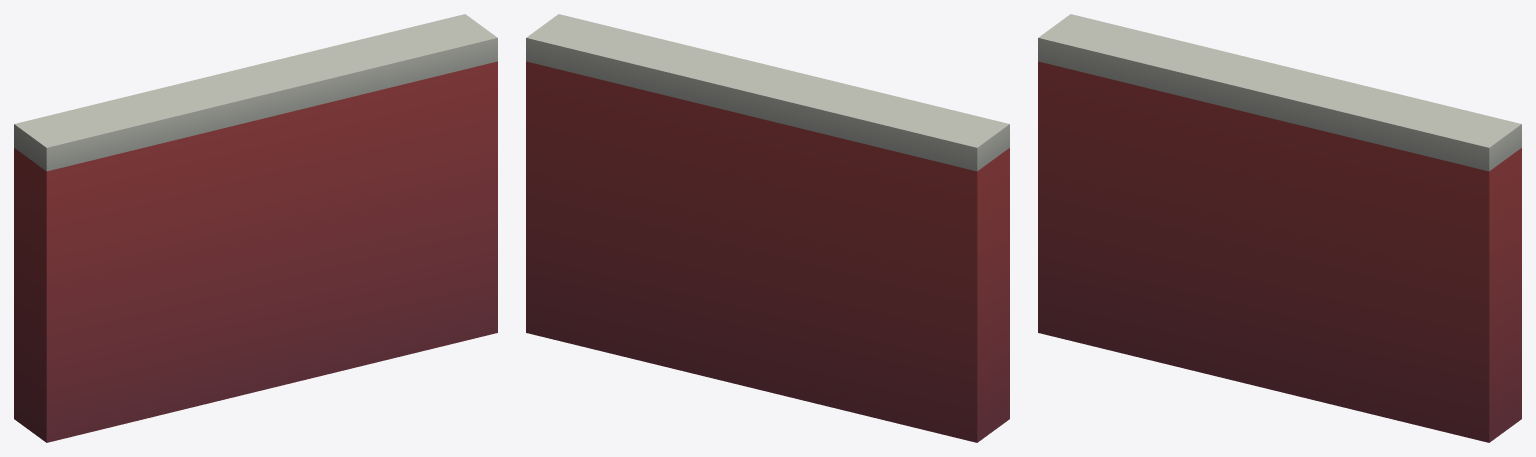
File: Wall_Brick_01.fbx
3 views of the same model, side by side, from view 1: azimuth 30°, elevation 25°; view 2: azimuth 150°, elevation 25°; view 3: azimuth 330°, elevation 25° (orthographic).
Parts seen in each view (by area): view 1: Wall_Brick_01; view 2: Wall_Brick_01; view 3: Wall_Brick_01.
Boxes of the visible parts, x1,y1,x2,y2 form: Wall_Brick_01: (14,14,497,442); Wall_Brick_01: (526,14,1009,442); Wall_Brick_01: (1038,14,1521,442).
Size of the model in its own units: 400 by 250 by 50.
